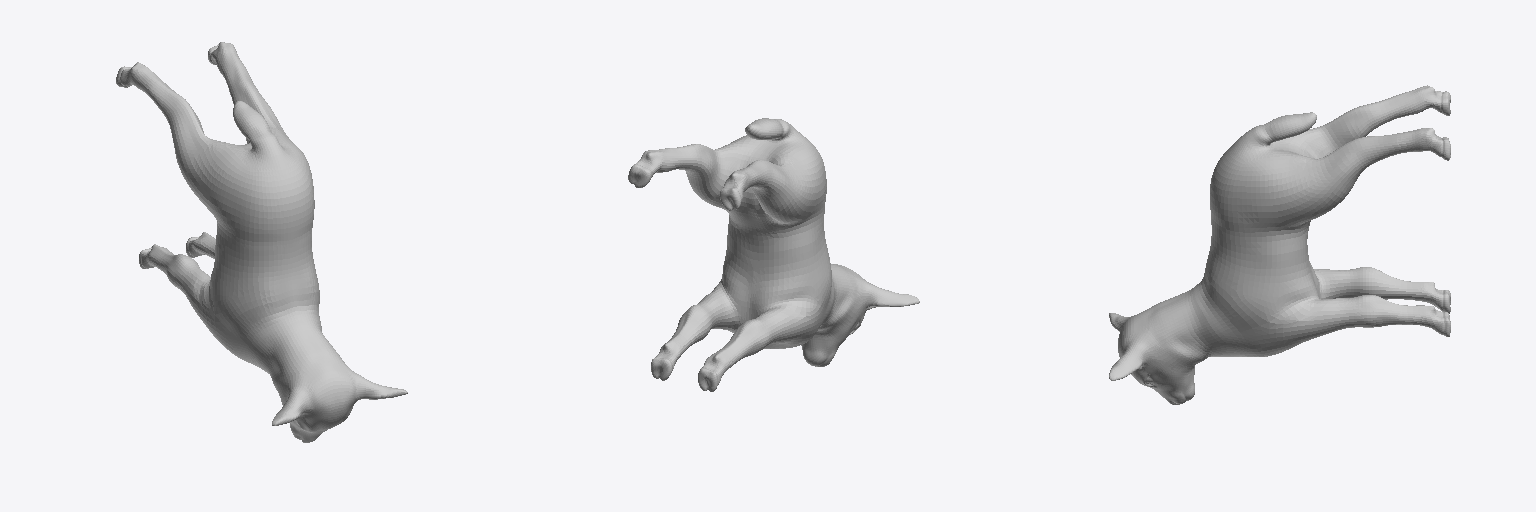
Rendered from lamb.obj.
3 views of the same model, side by side, from view 1: azimuth 30°, elevation 25°; view 2: azimuth 150°, elevation 25°; view 3: azimuth 270°, elevation 25° (orthographic).
Parts seen in each view (by area): view 1: 12955_Lamb; view 2: 12955_Lamb; view 3: 12955_Lamb.
Boxes of the visible parts, <box> form: 12955_Lamb: <box>116,42,407,442</box>; 12955_Lamb: <box>628,118,919,391</box>; 12955_Lamb: <box>1109,85,1450,404</box>.
Size of the model in its own units: 39.9 by 83.76 by 87.72.